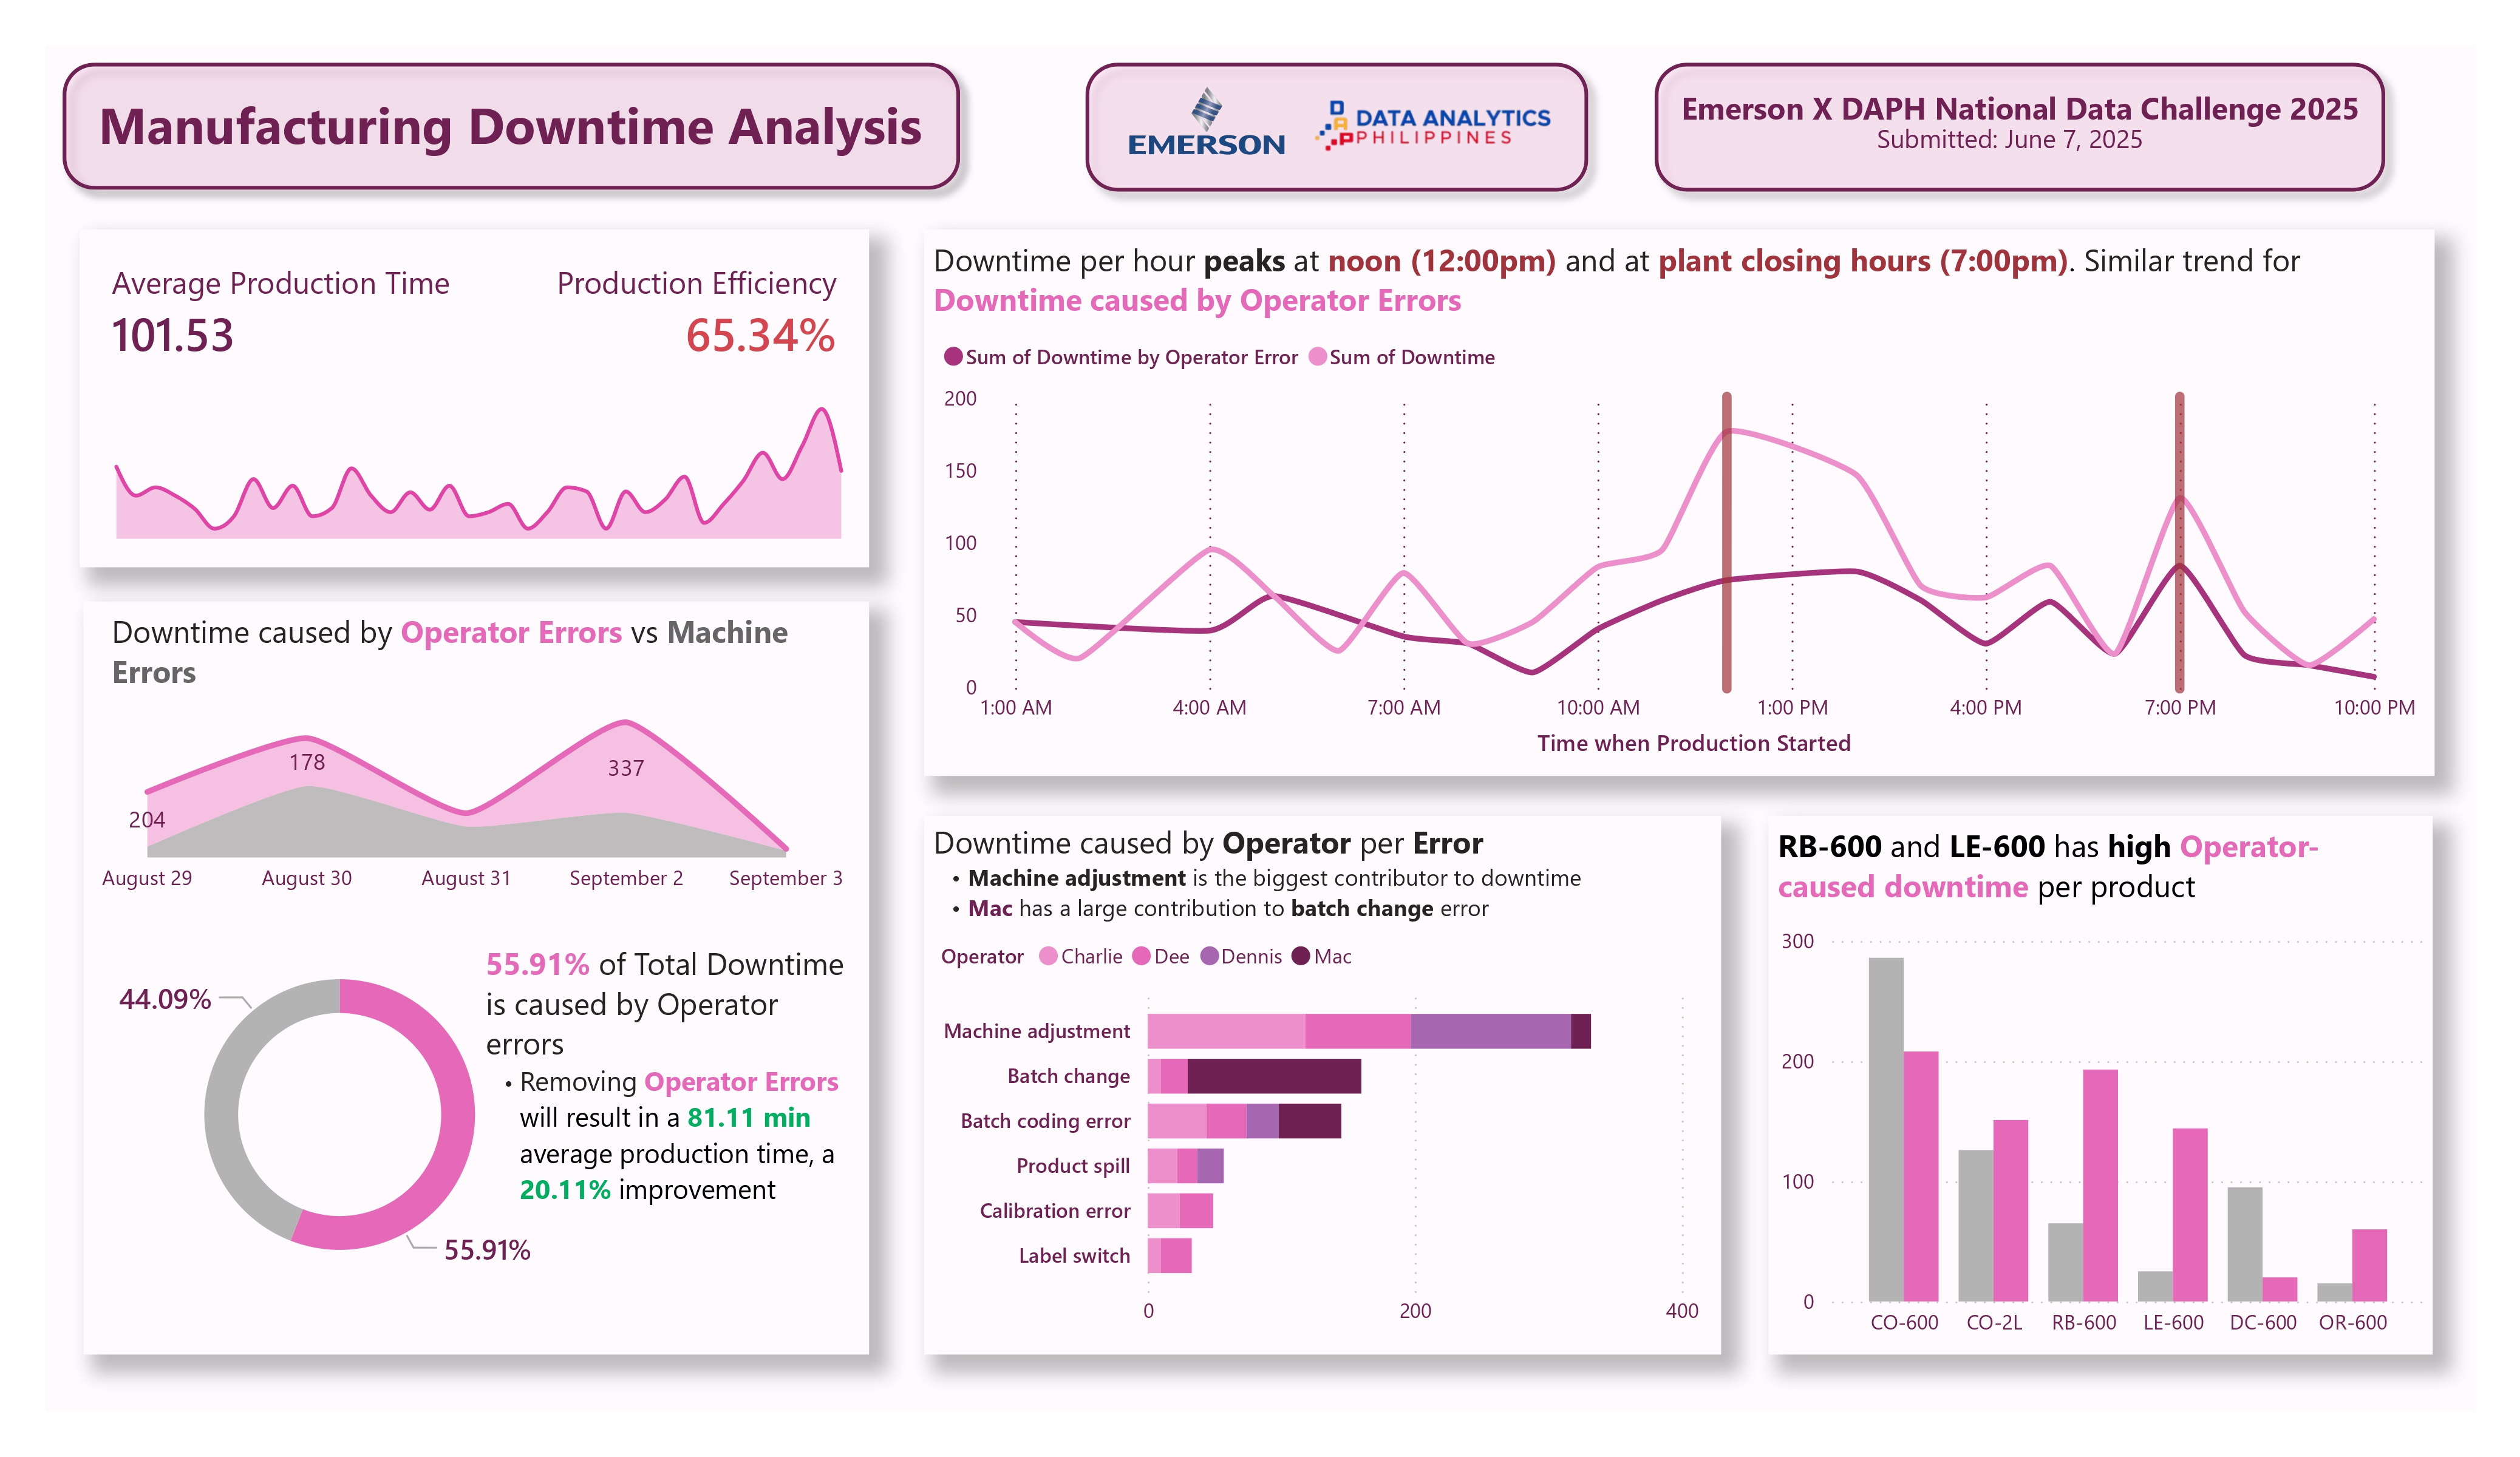

The page's visual inventory and layout, read from the dashboard file:
{"tool":"powerbi","page":{"name":"Dashboard","canvas":[1280,720],"ordinal":0},"visuals":[{"type":"shape","box":[0,0,491.1,85],"z":0},{"type":"textbox","box":[22.5,17.5,498.3,48.3],"z":1000},{"type":"shape","box":[539,0,282.6,86],"z":2000},{"type":"shape","box":[20,293.3,414.2,396.7],"z":3000},{"type":"cardVisual","fields":{"Data":["Line productivity.Batch Time"]},"box":[18,97,416,178],"z":4000},{"type":"lineChart","fields":{"Y":["Line productivity.Batch Time"],"Category":["Line productivity.Batch"]},"box":[17,163.4,433.1,96.2],"z":5000},{"type":"shape","box":[907.5,406.2,350,283.8],"z":6000},{"type":"stackedAreaChart","title":"Cuttable","fields":{"Y":["Line downtime.Value not by Operator Error","Line downtime.Value by Operator Error"],"Category":["Line productivity.Date.Variation.Date Hierarchy.Month","Line productivity.Date.Variation.Date Hierarchy.Day"]},"box":[14.8,329.1,418.5,127.7],"z":7000},{"type":"textbox","box":[30,293.1,397.5,53.8],"z":8000},{"type":"shape","box":[462.7,97.3,796.4,288.2],"z":9000},{"type":"shape","box":[462.5,406.2,420,283.8],"z":10000},{"type":"lineChart","fields":{"Category":["Dates.Start Bin"],"Y":["Dates.Downtime by Operator Error","Dates.Downtime"]},"box":[462.5,145,796.2,240],"z":11000},{"type":"donutChart","fields":{"Category":["Downtime factors.Operator Error"],"Y":["Line downtime.Value"]},"box":[30,454.3,250,218.6],"z":12000},{"type":"textbox","box":[226.9,467.7,206.9,173.1],"z":13000},{"type":"lineClusteredColumnComboChart","fields":{"Y":["Line downtime.Value"],"Series":["Downtime factors.Operator Error"],"Category":["Products.Product"]},"box":[908.6,457.6,350,233.9],"z":14000},{"type":"textbox","box":[462.7,97.3,760.9,63.6],"z":15000},{"type":"barChart","title":"Downtime caused by Operator per Error","fields":{"Category":["Downtime factors.Description"],"Y":["Line downtime.Value"],"Series":["Line productivity.Operator"]},"box":[462.2,461,420,229],"z":16000},{"type":"shape","box":[839.4,0,402.3,85.8],"z":16500},{"type":"textbox","box":[463,404,420,64],"z":17000},{"type":"textbox","box":[907.8,405.6,350,55.7],"z":18000},{"type":"cardVisual","fields":{"Data":["Measured Vars.Production Efficiency"]},"box":[198.7,96.7,235.3,76],"z":19000},{"type":"textbox","box":[856.9,16.9,410,38.3],"z":20000},{"type":"image","box":[564.3,15.2,96,54],"z":21000},{"type":"image","box":[648.2,15.5,162,52],"z":22000},{"type":"textbox","box":[960.2,35.4,195,36.7],"z":23000}]}

Visuals, with their boxes on the page's 1280x720 design canvas (x1, y1, x2, y2). These are canvas units, not pixel positions in the 2520x1457 screenshot, which may show the page scaled, cropped or inside an application window:
shape: {"left": 0, "top": 0, "right": 491, "bottom": 85}
textbox: {"left": 22, "top": 18, "right": 521, "bottom": 66}
shape: {"left": 539, "top": 0, "right": 822, "bottom": 86}
shape: {"left": 20, "top": 293, "right": 434, "bottom": 690}
cardVisual - Line productivity.Batch Time: {"left": 18, "top": 97, "right": 434, "bottom": 275}
lineChart - Line productivity.Batch Time x Line productivity.Batch: {"left": 17, "top": 163, "right": 450, "bottom": 260}
shape: {"left": 908, "top": 406, "right": 1258, "bottom": 690}
"Cuttable" stackedAreaChart: {"left": 15, "top": 329, "right": 433, "bottom": 457}
textbox: {"left": 30, "top": 293, "right": 428, "bottom": 347}
shape: {"left": 463, "top": 97, "right": 1259, "bottom": 386}
shape: {"left": 462, "top": 406, "right": 882, "bottom": 690}
lineChart - Dates.Start Bin x Dates.Downtime by Operator Error: {"left": 462, "top": 145, "right": 1259, "bottom": 385}
donutChart - Downtime factors.Operator Error x Line downtime.Value: {"left": 30, "top": 454, "right": 280, "bottom": 673}
textbox: {"left": 227, "top": 468, "right": 434, "bottom": 641}
lineClusteredColumnComboChart - Line downtime.Value x Downtime factors.Operator Error: {"left": 909, "top": 458, "right": 1259, "bottom": 692}
textbox: {"left": 463, "top": 97, "right": 1224, "bottom": 161}
"Downtime caused by Operator per Error" barChart: {"left": 462, "top": 461, "right": 882, "bottom": 690}
shape: {"left": 839, "top": 0, "right": 1242, "bottom": 86}
textbox: {"left": 463, "top": 404, "right": 883, "bottom": 468}
textbox: {"left": 908, "top": 406, "right": 1258, "bottom": 461}
cardVisual - Measured Vars.Production Efficiency: {"left": 199, "top": 97, "right": 434, "bottom": 173}
textbox: {"left": 857, "top": 17, "right": 1267, "bottom": 55}
image: {"left": 564, "top": 15, "right": 660, "bottom": 69}
image: {"left": 648, "top": 16, "right": 810, "bottom": 68}
textbox: {"left": 960, "top": 35, "right": 1155, "bottom": 72}
